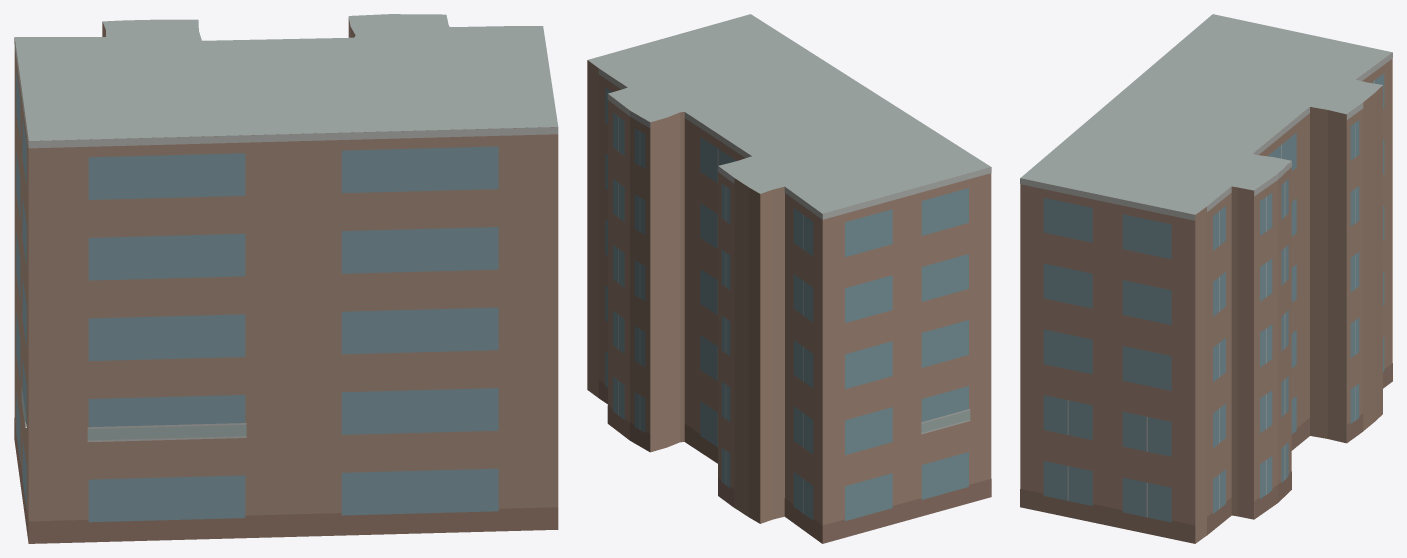
Rendered from survey-upis-32842172.glb.
3 views of the same model, side by side, from view 1: azimuth 30°, elevation 25°; view 2: azimuth 150°, elevation 25°; view 3: azimuth 270°, elevation 25° (orthographic). The views are drawn at different scales.
Parts seen in each view (by area): view 1: survey-upis-32842172.tmp; view 2: survey-upis-32842172.tmp; view 3: survey-upis-32842172.tmp.
Part boxes in pixels (<box>): survey-upis-32842172.tmp: <box>14,14,558,543</box>; survey-upis-32842172.tmp: <box>587,14,991,543</box>; survey-upis-32842172.tmp: <box>1020,14,1392,543</box>.
Bounding box in the file's own units: 17.55 × 13.4 × 13.76.
